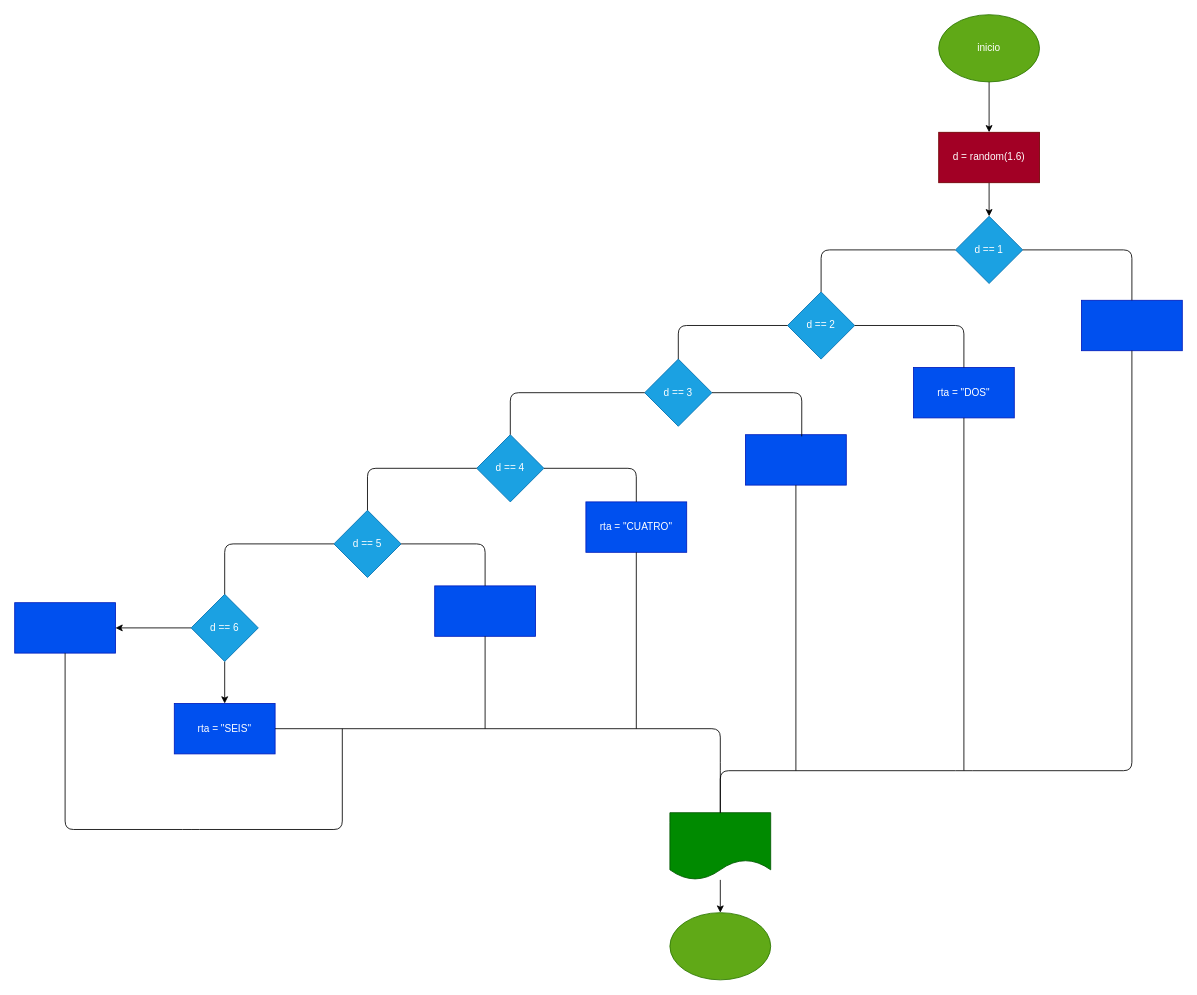
Some shapes in this 1197 by 995 pixel diagram are drawn without their labels. The centre of each missing label's shape, as x and y in pixels:
rta: pixel 720 846
rta = "CINCO": pixel 485 610
rta = "TRES": pixel 795 459
rta = "UNO": pixel 1131 325
rta = NO ES LA CARA DE UN DADO: pixel 65 627
